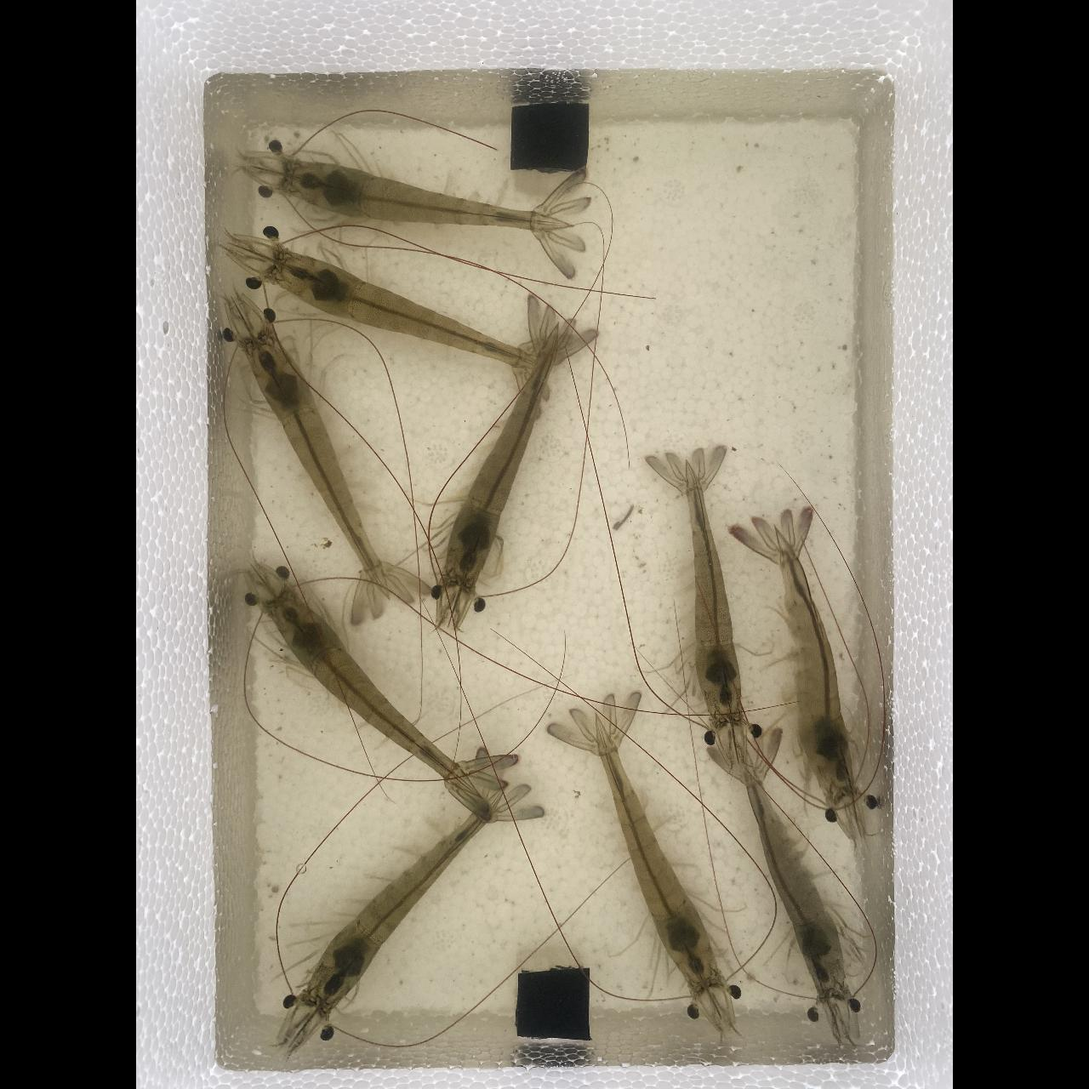box: (510, 102, 589, 168), (516, 970, 590, 1040)
top_shrimp: (308, 783, 500, 1011), (269, 592, 468, 784), (248, 337, 385, 589), (271, 254, 550, 369), (596, 730, 718, 985), (444, 332, 558, 585), (740, 745, 842, 990), (282, 158, 568, 230), (781, 534, 854, 796), (686, 463, 740, 716)
